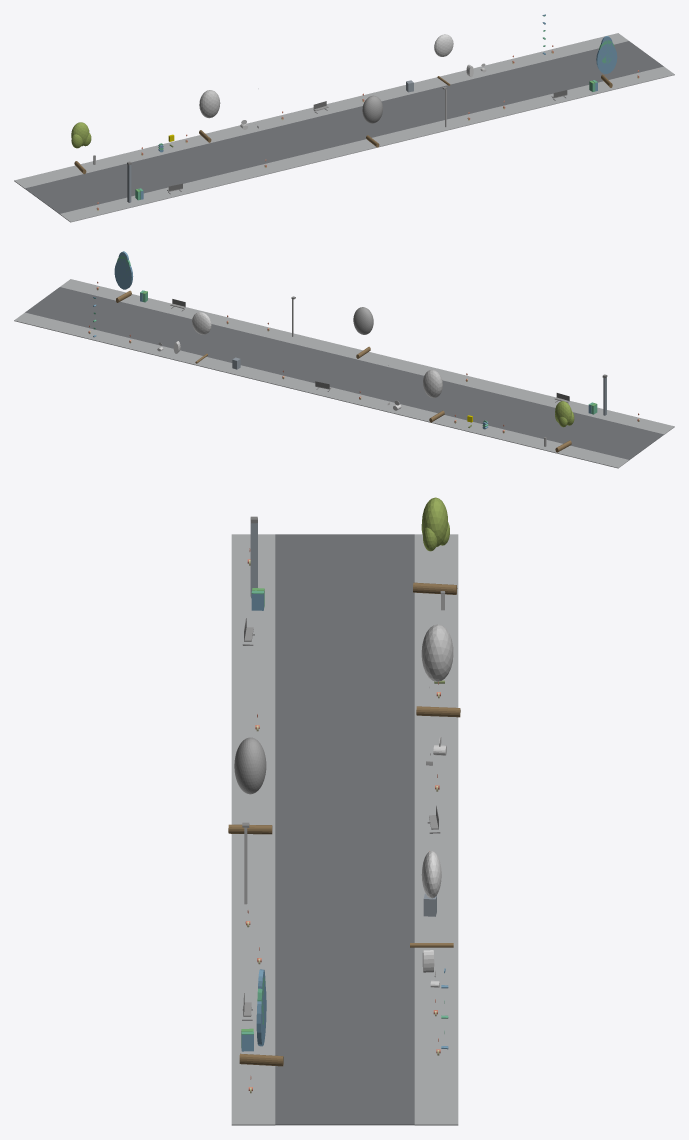
The picture shows the model from 3 angles, top to bottom: view 1: azimuth 30°, elevation 25°; view 2: azimuth 150°, elevation 25°; view 3: azimuth 270°, elevation 25°; orthographic projection. The views are drawn at different scales.
Parts seen in each view (by area): view 1: road_slab, sidewalk_left, sidewalk_right, inst_0016, inst_0013, inst_0014, inst_0012, inst_0015; view 2: road_slab, sidewalk_right, sidewalk_left, inst_0016, inst_0013, inst_0014, inst_0012, inst_0015; view 3: road_slab, sidewalk_left, sidewalk_right, inst_0013, inst_0014, inst_0012, inst_0016, inst_0015.
Part boxes in pixels (x1,y1,x2,y2): road_slab: [25, 41, 663, 213]; sidewalk_left: [59, 66, 674, 222]; sidewalk_right: [14, 33, 628, 188]; inst_0016: [596, 36, 617, 87]; inst_0013: [199, 90, 220, 142]; inst_0014: [362, 95, 382, 147]; inst_0012: [71, 122, 91, 174]; inst_0015: [434, 34, 453, 85]; road_slab: [25, 287, 663, 459]; sidewalk_right: [14, 312, 629, 468]; sidewalk_left: [60, 279, 674, 434]; inst_0016: [114, 251, 133, 302]; inst_0013: [423, 369, 444, 422]; inst_0014: [353, 307, 373, 358]; inst_0012: [555, 401, 574, 452]; inst_0015: [192, 312, 211, 363]; road_slab: [275, 534, 414, 1125]; sidewalk_left: [231, 534, 275, 1125]; sidewalk_right: [414, 534, 458, 1125]; inst_0013: [416, 624, 460, 717]; inst_0014: [228, 737, 272, 834]; inst_0012: [413, 497, 457, 594]; inst_0016: [239, 969, 283, 1066]; inst_0015: [410, 851, 453, 947].
Size of the model in its own units: 80 by 6.08 by 13.3.
